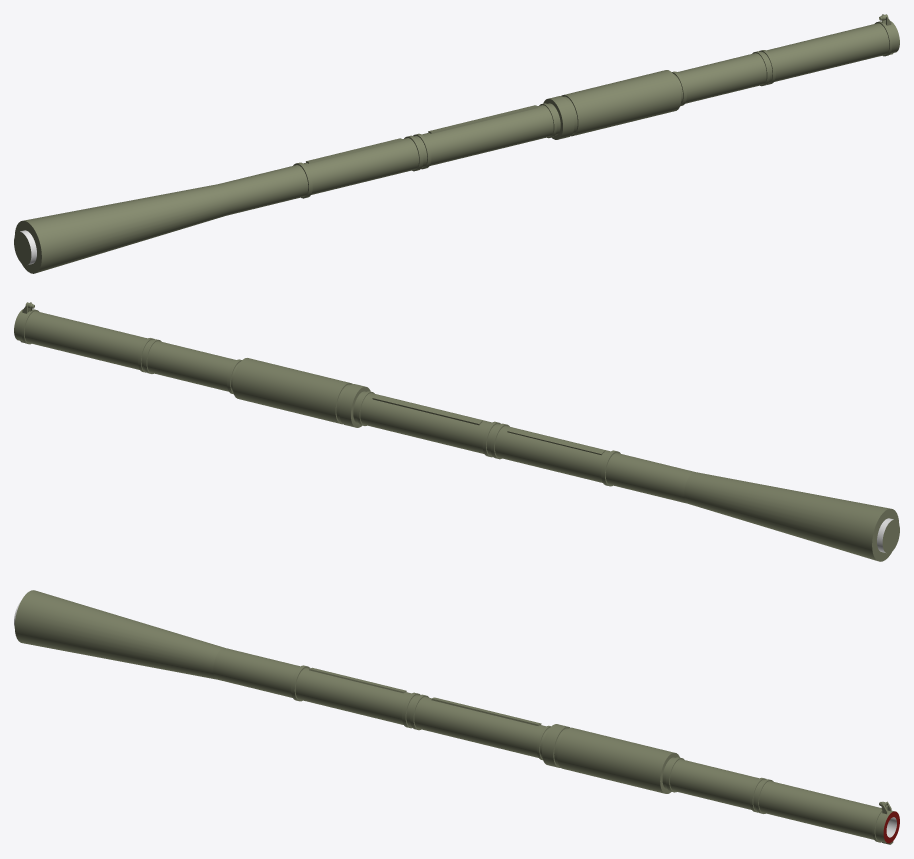
The model's file is Barrel.fbx.
3 renders of one model, top to bottom at view 1: azimuth 30°, elevation 25°; view 2: azimuth 150°, elevation 25°; view 3: azimuth 330°, elevation 25°, orthographic.
Visible parts, largest first — view 1: Cylinder.001; view 2: Cylinder.001; view 3: Cylinder.001.
Boxes of the visible parts, x1,y1,x2,y2 form: Cylinder.001: (14, 14, 899, 273); Cylinder.001: (14, 302, 899, 561); Cylinder.001: (14, 590, 899, 844).
Bounding box in the file's own units: 621 × 33.68 × 33.68.
